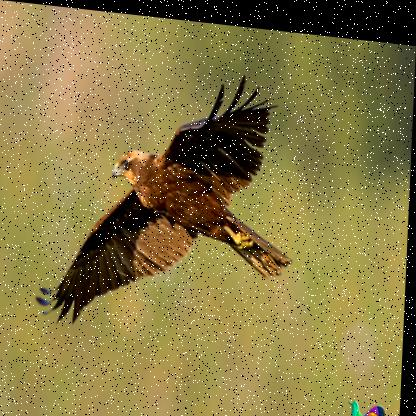Burung: (36, 50, 300, 343)
